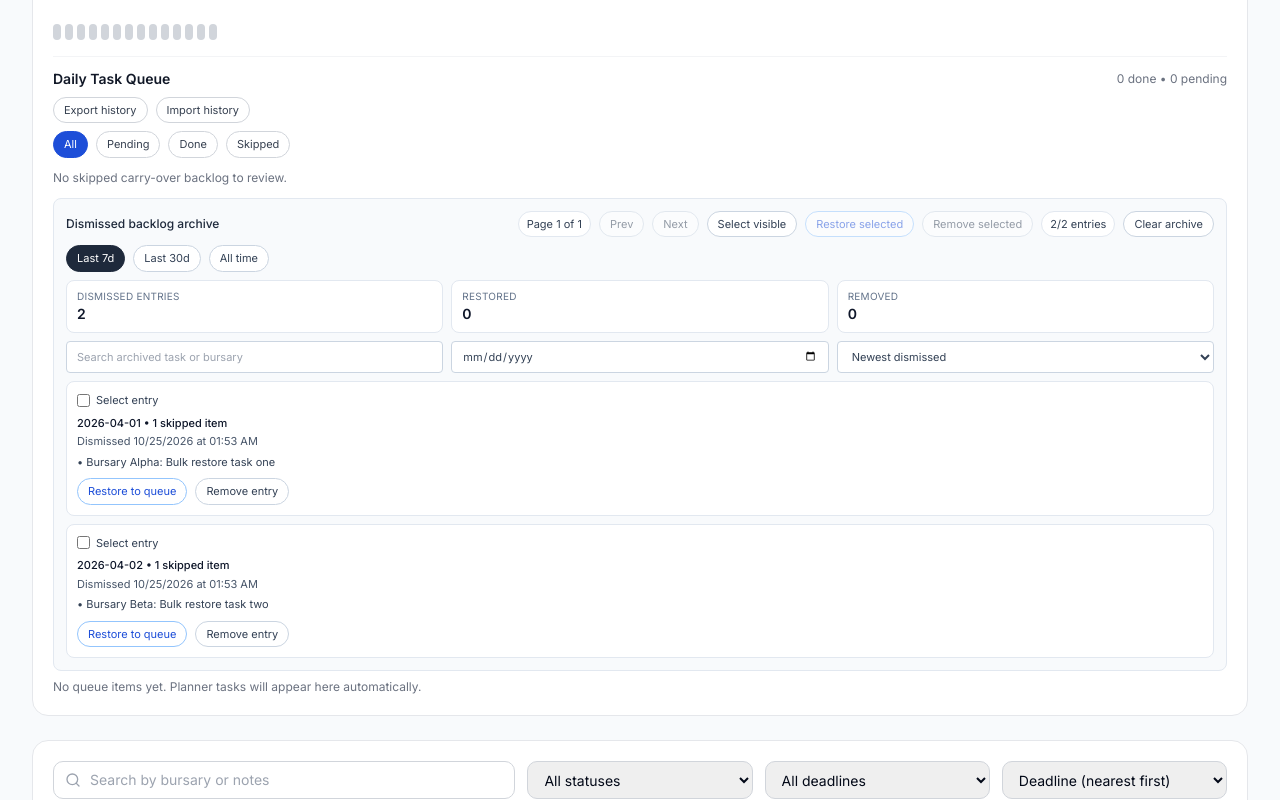
Test case: ApplicationTracker phase 2.5 interactions › restores selected archive entries in bulk
(page scrolled)
Click the checkbox named "Select archive entry" at (84, 400), box left=77, top=394, right=90, bottom=407
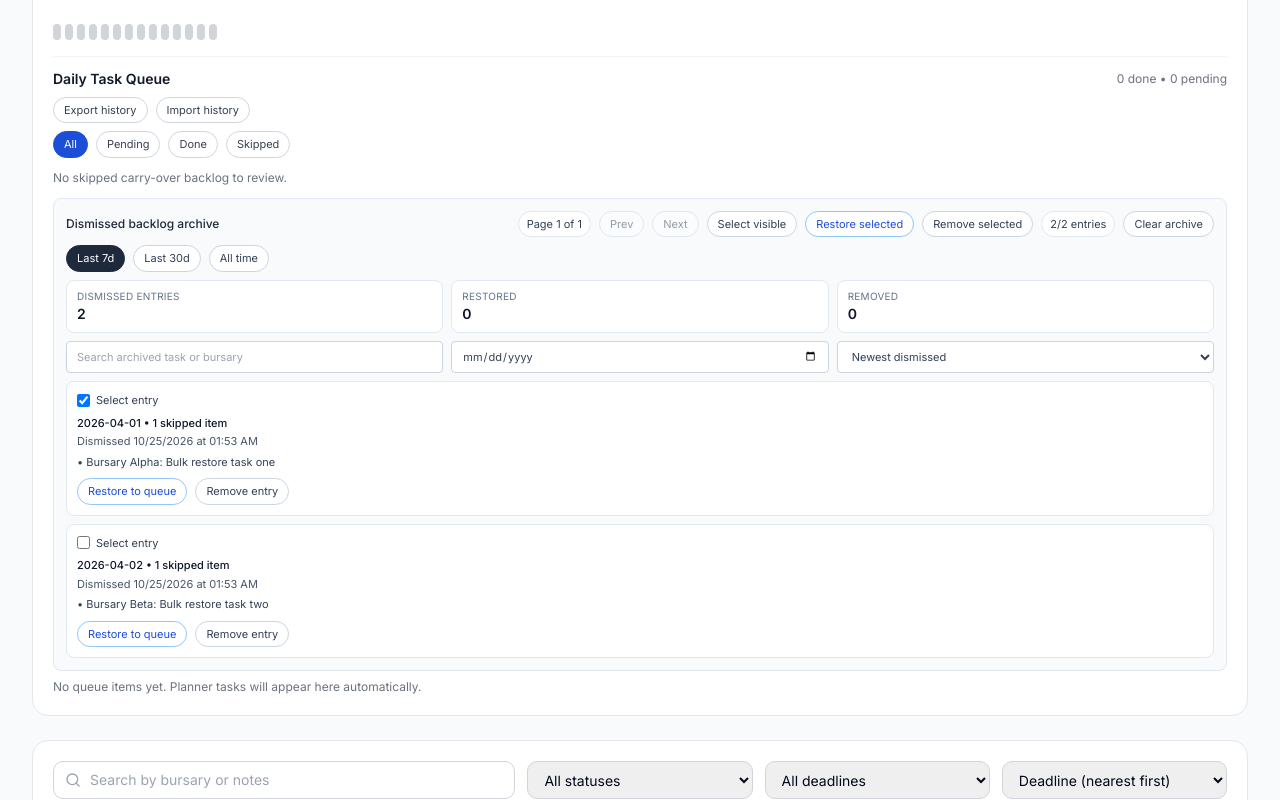
Click the checkbox named "Select archive entry" at (84, 543), box left=77, top=536, right=90, bottom=549
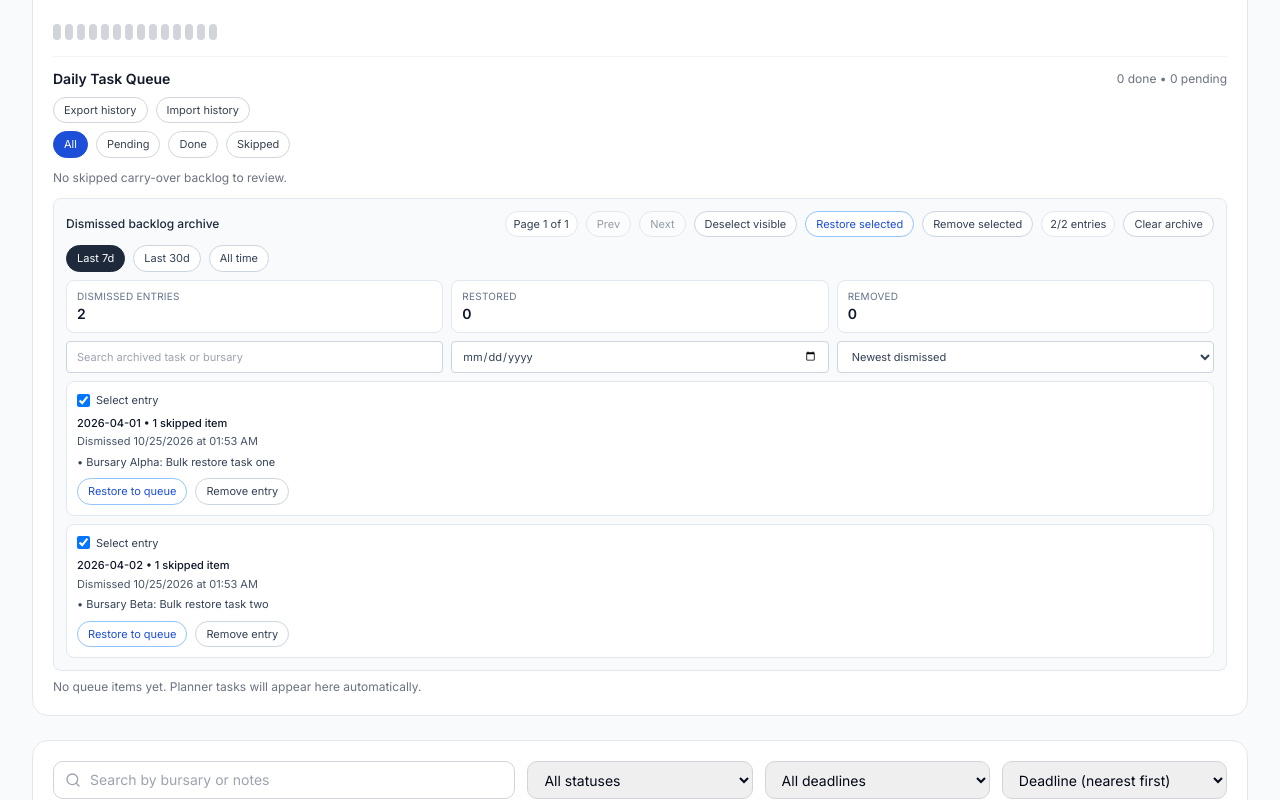
Click the button "Restore selected" at (860, 224), box left=805, top=210, right=914, bottom=237
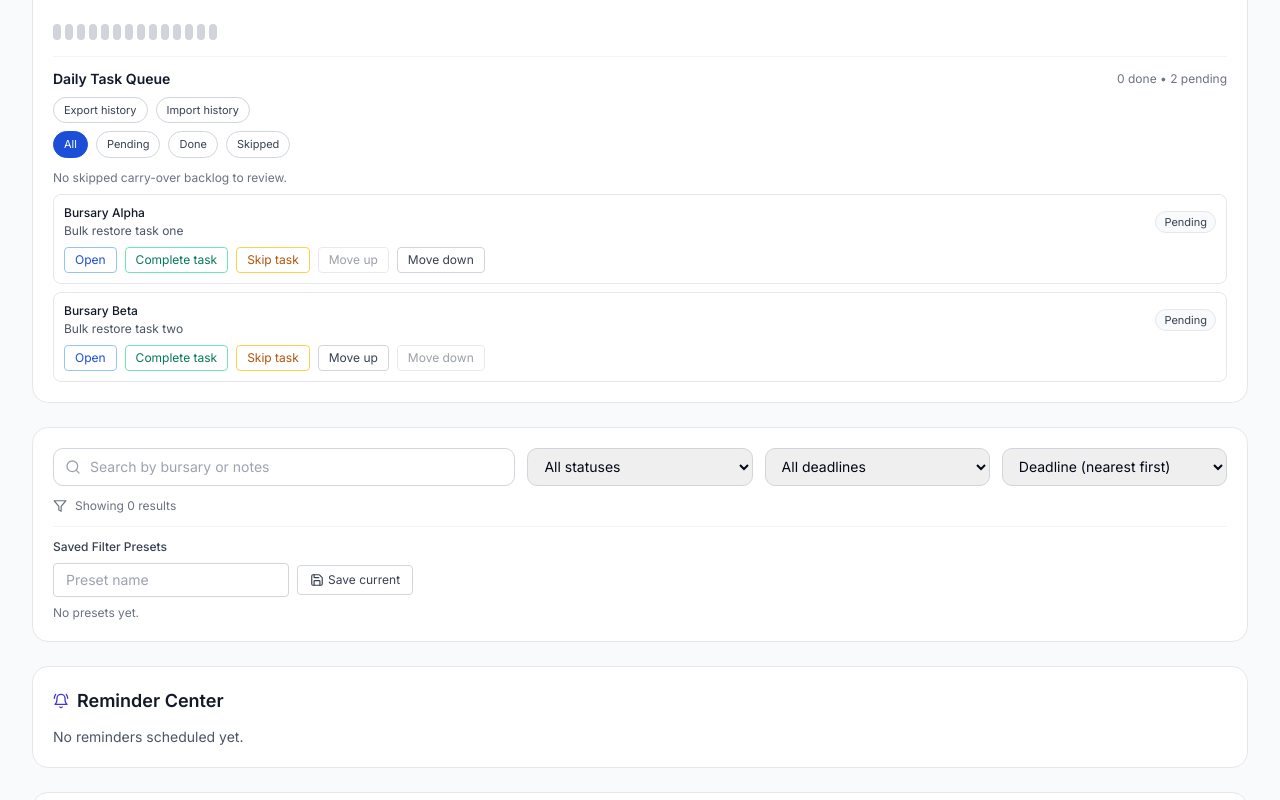
expect the text "Bulk restore task one" is shown: met, box left=64, top=222, right=184, bottom=238
expect the text "Dismissed backlog archive" is gone: met
